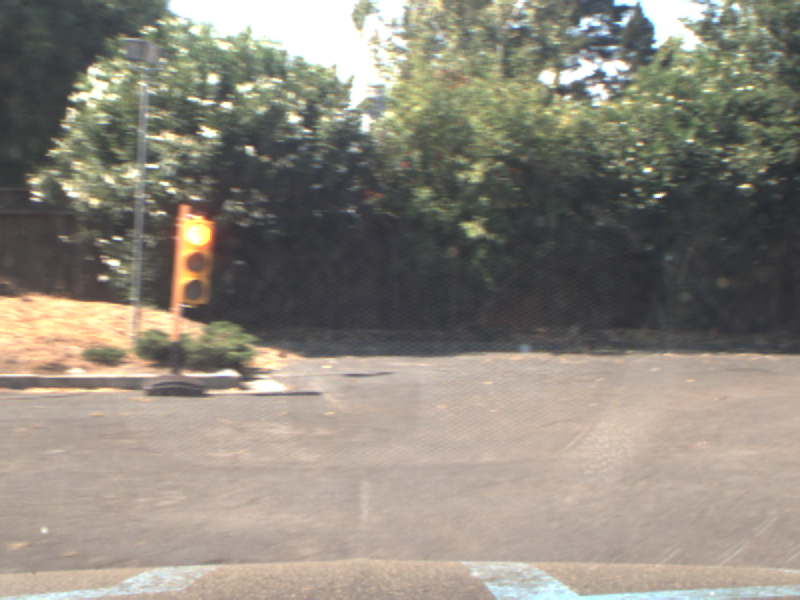red: (173, 208, 212, 308)
